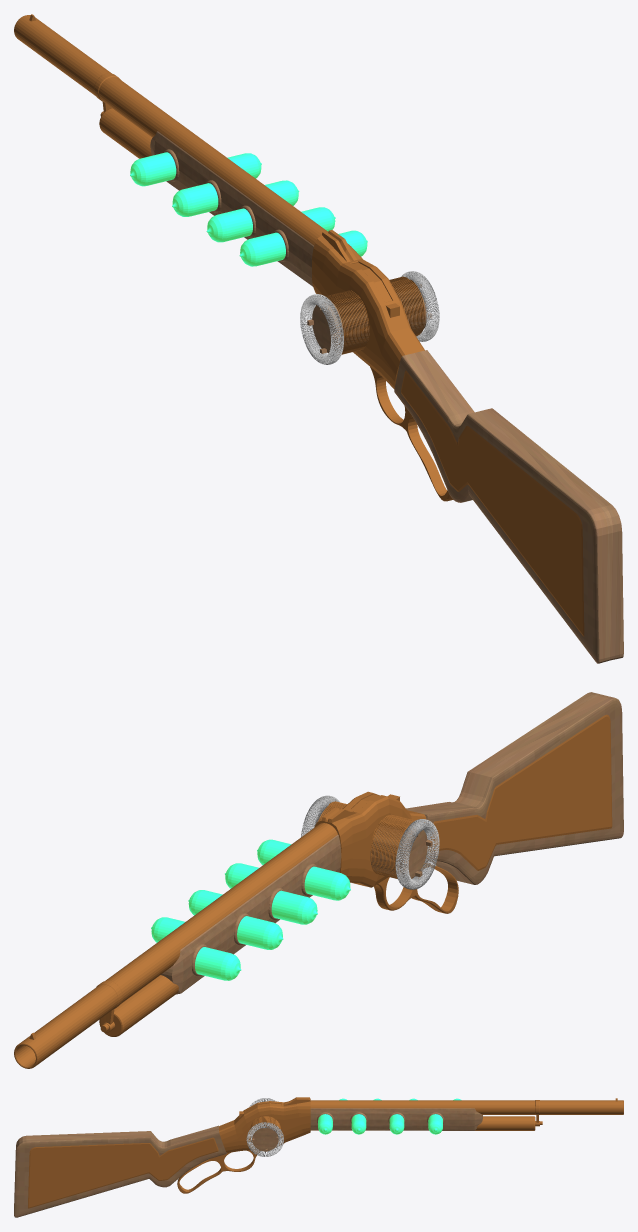
The model's file is LeverActionElectro.fbx.
3 views of the same model, one above another, from view 1: azimuth 30°, elevation 25°; view 2: azimuth 150°, elevation 25°; view 3: azimuth 270°, elevation 25° (orthographic). The views are drawn at different scales.
Parts seen in each view (by area): view 1: Cube, Cube.004, Cylinder, Cube.003, Cube.001, BezierCircle.006, BezierCircle.002, Cylinder.004, BezierCircle.005, Cylinder.001, Cylinder.013, Cylinder.017 (+4 smaller); view 2: Cube.004, Cube, Cylinder, Cube.001, Cube.003, Cylinder.001, Cylinder.004, BezierCircle.006, BezierCircle.005, BezierCircle.002, Cylinder.019, Cylinder.015 (+3 smaller); view 3: Cube.004, Cube, Cylinder, Cube.001, Cube.003, Cylinder.001, BezierCircle.002, Cylinder.003, BezierCircle.004, Cylinder.007, Cylinder.009, Cylinder.011 (+2 smaller).
Boxes of the visible parts, bbox=[...] form: Cube: bbox=[394, 350, 623, 663]; Cube.004: bbox=[401, 370, 584, 636]; Cylinder: bbox=[14, 14, 327, 245]; Cube.003: bbox=[312, 230, 424, 388]; Cube.001: bbox=[150, 131, 313, 286]; BezierCircle.006: bbox=[300, 294, 343, 364]; BezierCircle.002: bbox=[370, 367, 452, 501]; Cylinder.004: bbox=[307, 300, 369, 353]; BezierCircle.005: bbox=[316, 290, 369, 354]; Cylinder.001: bbox=[99, 108, 152, 158]; Cylinder.013: bbox=[130, 152, 176, 186]; Cylinder.017: bbox=[206, 208, 252, 242]; Cube.004: bbox=[429, 714, 612, 870]; Cube: bbox=[406, 692, 623, 884]; Cylinder: bbox=[14, 823, 337, 1068]; Cube.001: bbox=[161, 835, 341, 994]; Cube.003: bbox=[314, 791, 426, 887]; Cylinder.001: bbox=[99, 975, 178, 1036]; Cylinder.004: bbox=[370, 825, 432, 877]; BezierCircle.006: bbox=[395, 819, 439, 889]; BezierCircle.005: bbox=[371, 814, 415, 878]; BezierCircle.002: bbox=[373, 863, 458, 913]; Cylinder.019: bbox=[304, 866, 350, 900]; Cylinder.015: bbox=[237, 916, 283, 949]; Cube.004: bbox=[28, 1137, 218, 1208]; Cube: bbox=[14, 1125, 226, 1217]; Cylinder: bbox=[310, 1098, 623, 1114]; Cube.001: bbox=[310, 1108, 482, 1130]; Cube.003: bbox=[219, 1097, 310, 1152]; Cylinder.001: bbox=[475, 1116, 542, 1130]; BezierCircle.002: bbox=[177, 1150, 260, 1193]; Cylinder.003: bbox=[251, 1123, 279, 1151]; BezierCircle.004: bbox=[246, 1122, 283, 1156]; Cylinder.007: bbox=[351, 1114, 366, 1134]; Cylinder.009: bbox=[389, 1114, 404, 1134]; Cylinder.011: bbox=[428, 1114, 442, 1134].
Size of the model in its own units: 168 by 324 by 1538.
4 materials, 1 textured.
